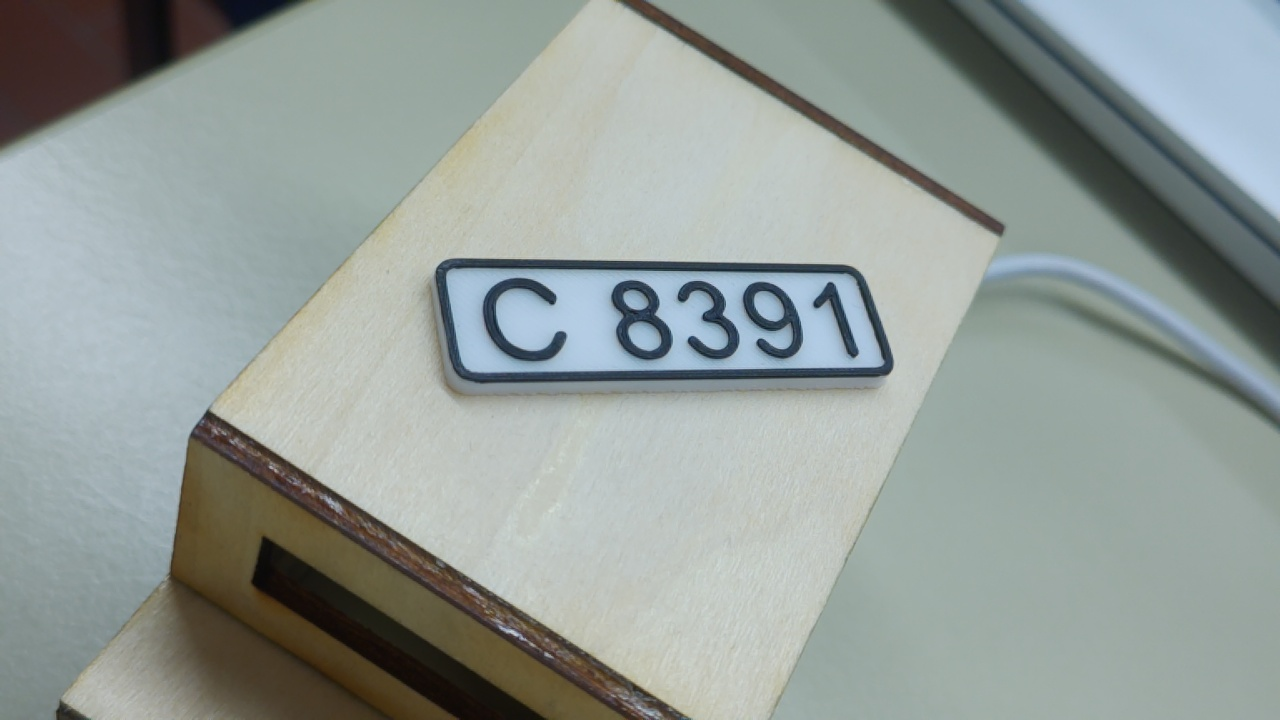license_plate: (402, 247, 915, 408)
